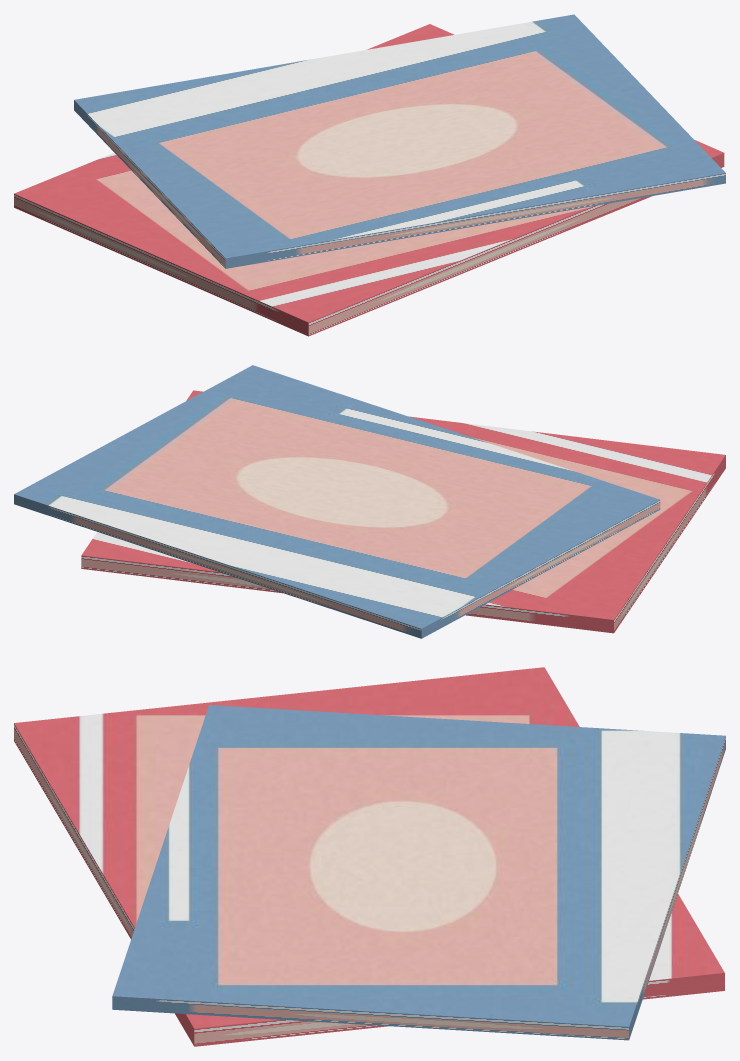
File: magazine.glb
The picture shows the model from 3 angles, top to bottom: view 1: azimuth 30°, elevation 25°; view 2: azimuth 150°, elevation 25°; view 3: azimuth 270°, elevation 25°; orthographic projection. The views are drawn at different scales.
Parts seen in each view (by area): view 1: magazine_magazines; view 2: magazine_magazines; view 3: magazine_magazines.
Boxes of the visible parts, x1,y1,x2,y2 form: magazine_magazines: [14, 14, 725, 336]; magazine_magazines: [14, 365, 725, 638]; magazine_magazines: [14, 667, 725, 1046].
Size of the model in its own units: 0.3554 by 0.014 by 0.2865.
Materials: 2 (2 with a texture image).
